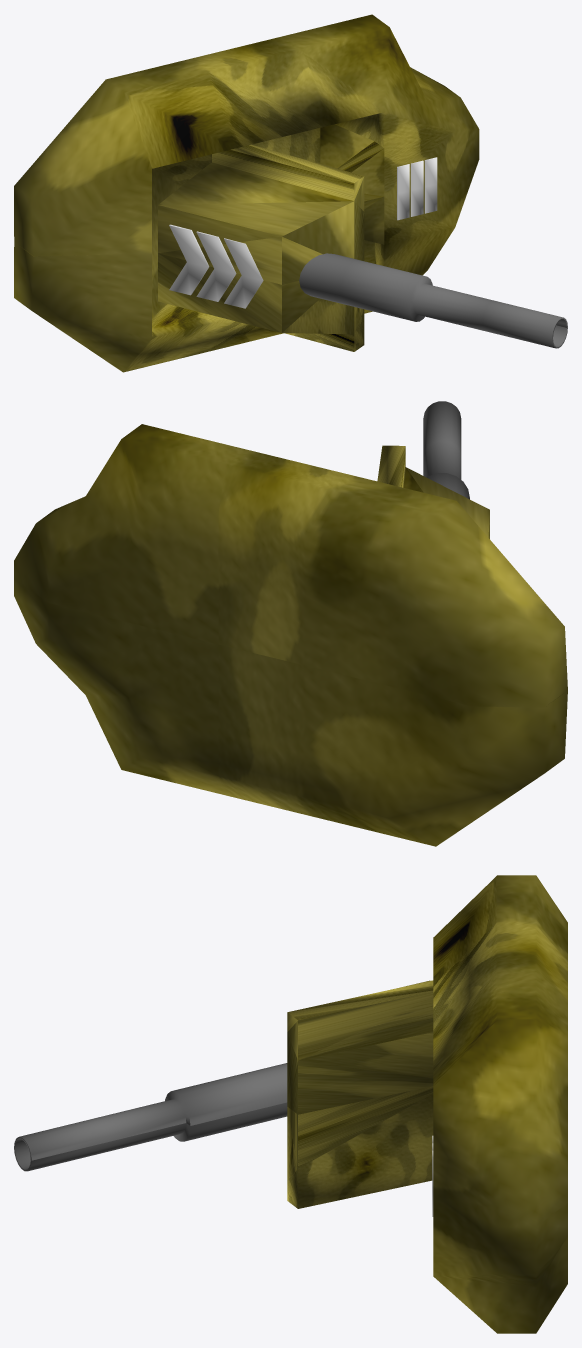
File: mortar_dead.fbx
The picture shows the model from 3 angles, top to bottom: view 1: azimuth 30°, elevation 25°; view 2: azimuth 150°, elevation 25°; view 3: azimuth 270°, elevation 25°; orthographic projection. The views are drawn at different scales.
Visible parts, largest first — view 1: Body0, Tube01_None, Color; view 2: Body0, Tube01_None; view 3: Body0, Tube01_None.
Boxes of the visible parts, <box> form: Body0: <box>14,14,479,372</box>; Tube01_None: <box>299,253,567,348</box>; Color: <box>169,157,437,308</box>; Body0: <box>14,424,567,846</box>; Tube01_None: <box>423,401,469,499</box>; Body0: <box>287,875,567,1333</box>; Tube01_None: <box>14,1063,287,1171</box>.
Bounding box in the file's own units: 55.66 × 33.18 × 53.21.
2 materials, 2 textured.
